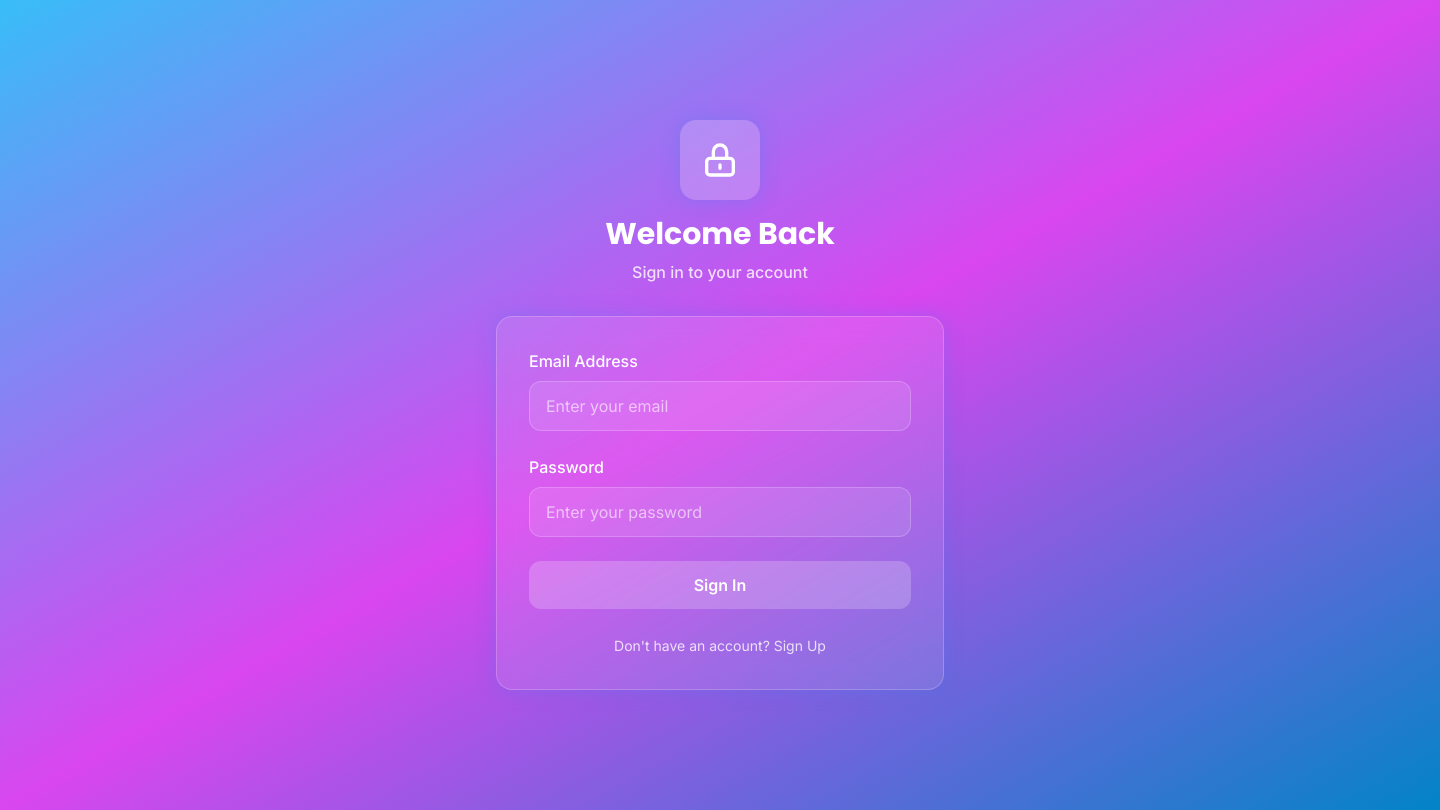
Test: LoginPage › handles registration error
# Switch to register mode
Click the button "Don't have an account? Sign Up" at (720, 646), box [614,636,826,656]
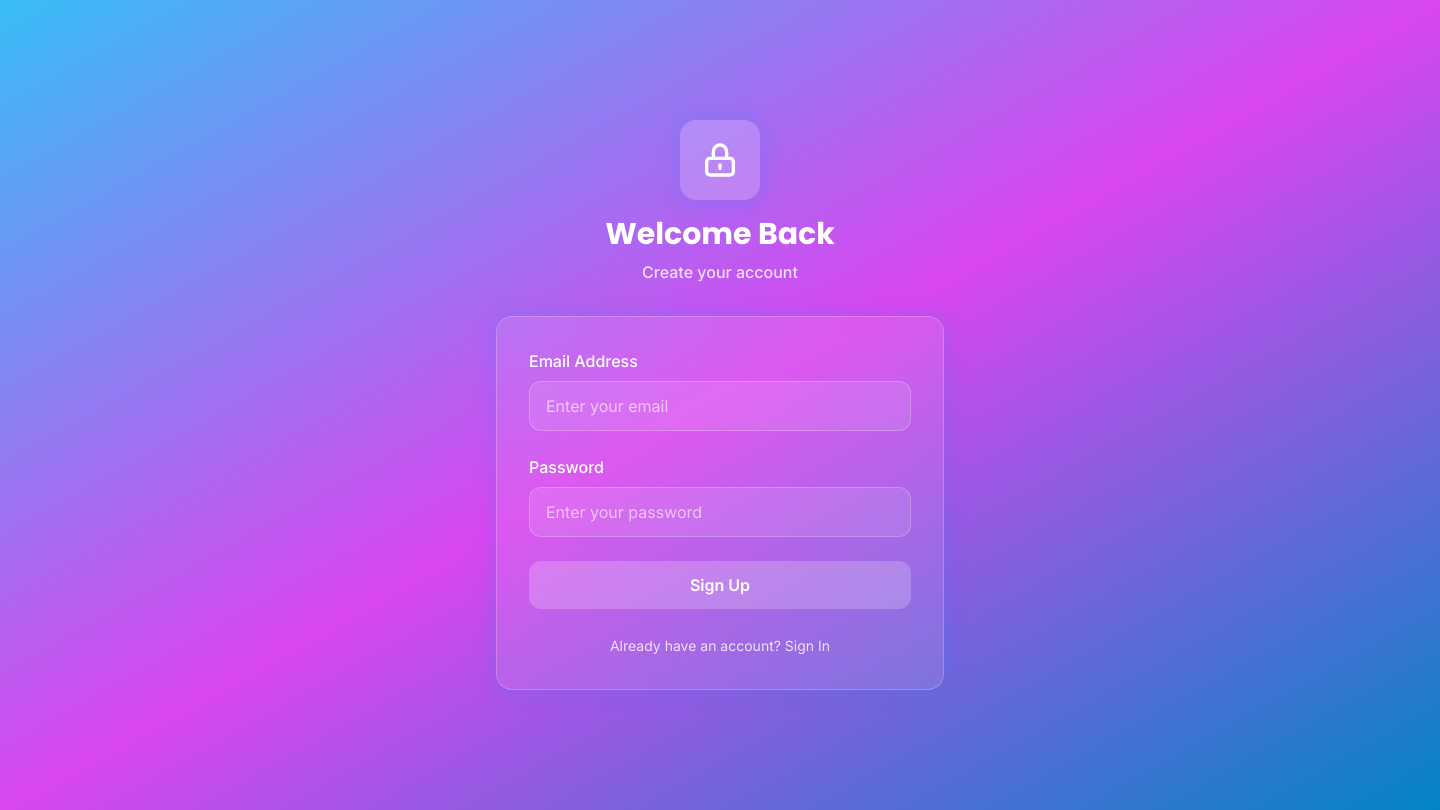
Type "existing@example.com" into the field labelled "Email Address" at (720, 406), box [529,381,911,431]
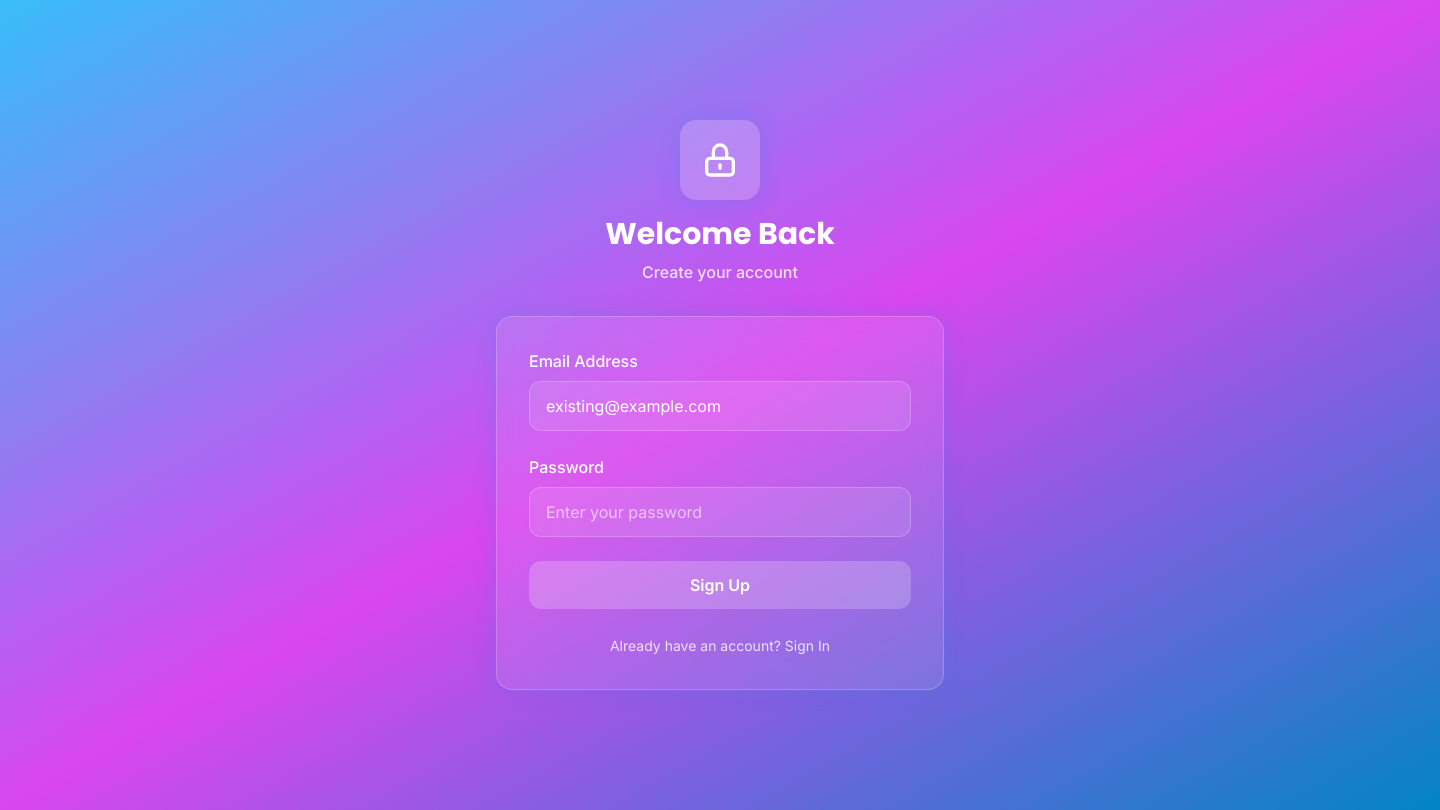
Type "password123" into the password field labelled "Password" at (720, 512), box [529,487,911,537]
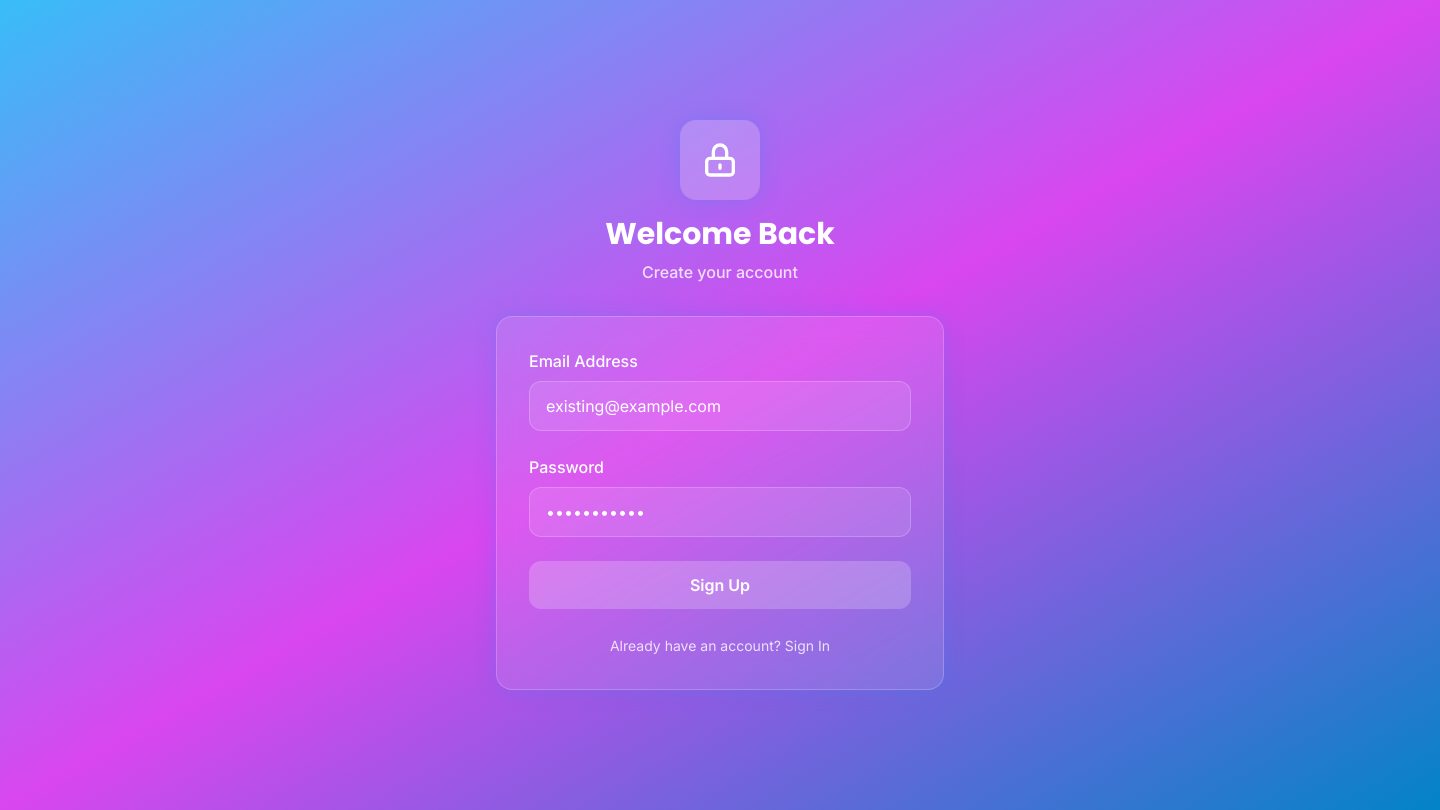
Click the button "Sign Up" at (720, 585), box [529,561,911,609]
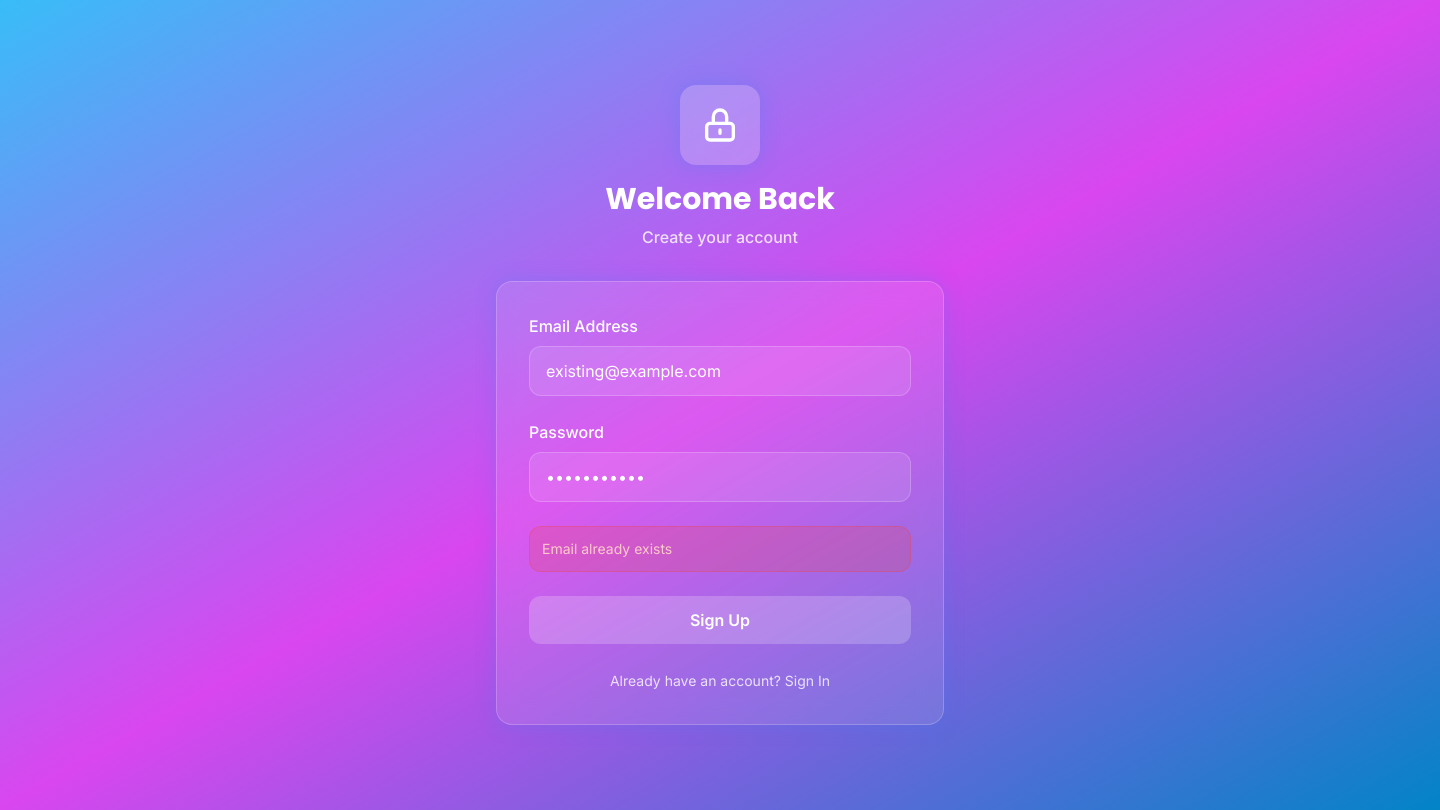
Check: the text "Email already exists" is shown, box [542,540,672,557]
